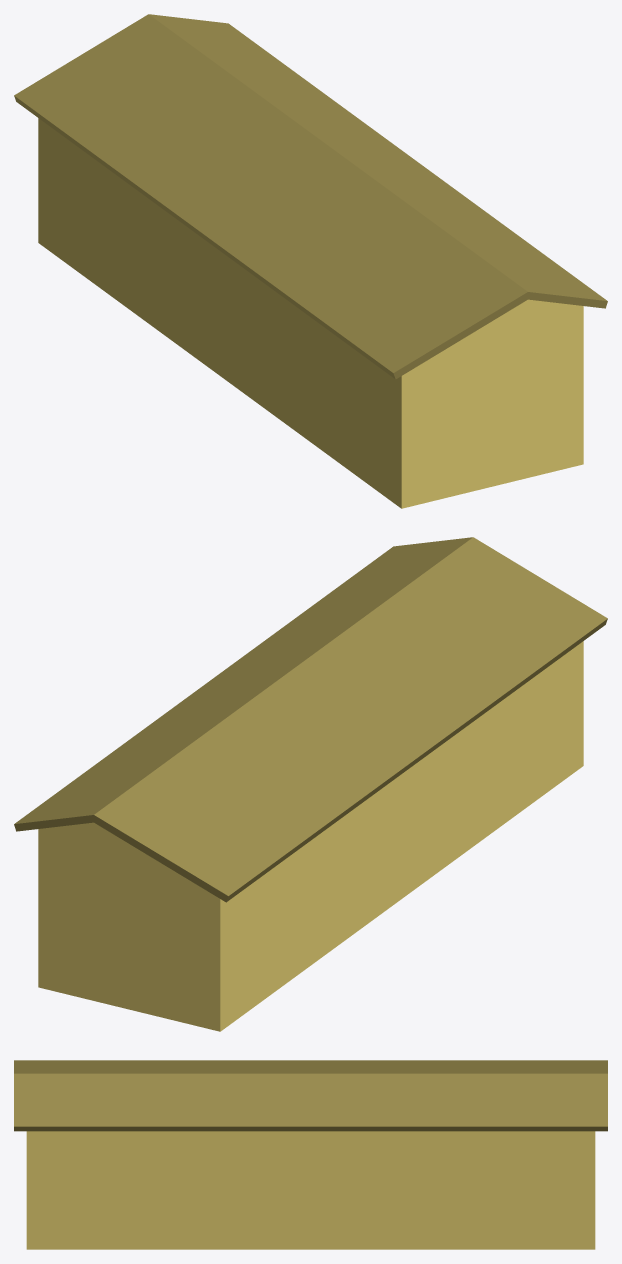
The model's file is result.glb.
3 renders of one model, top to bottom at view 1: azimuth 30°, elevation 25°; view 2: azimuth 150°, elevation 25°; view 3: azimuth 270°, elevation 25°, orthographic. The views are drawn at different scales.
Parts seen in each view (by area): view 1: 4cf09eef-9434-4687-bcec-82fb95d903c1__undefined (×2), 5c2158cf-7546-40e1-b131-ad94e0c38a4b__undefined; view 2: 4cf09eef-9434-4687-bcec-82fb95d903c1__undefined (×2), 5c2158cf-7546-40e1-b131-ad94e0c38a4b__undefined; view 3: 5c2158cf-7546-40e1-b131-ad94e0c38a4b__undefined, 4cf09eef-9434-4687-bcec-82fb95d903c1__undefined (×2).
Boxes of the visible parts, box(x1,y1,x2,y2) form: 4cf09eef-9434-4687-bcec-82fb95d903c1__undefined (×2): box(14, 14, 607, 379); 5c2158cf-7546-40e1-b131-ad94e0c38a4b__undefined: box(38, 118, 583, 508); 4cf09eef-9434-4687-bcec-82fb95d903c1__undefined (×2): box(14, 537, 607, 902); 5c2158cf-7546-40e1-b131-ad94e0c38a4b__undefined: box(38, 641, 583, 1031); 5c2158cf-7546-40e1-b131-ad94e0c38a4b__undefined: box(26, 1131, 595, 1249); 4cf09eef-9434-4687-bcec-82fb95d903c1__undefined (×2): box(14, 1060, 607, 1131).
Size of the model in its own units: 772 by 667 by 2366.
